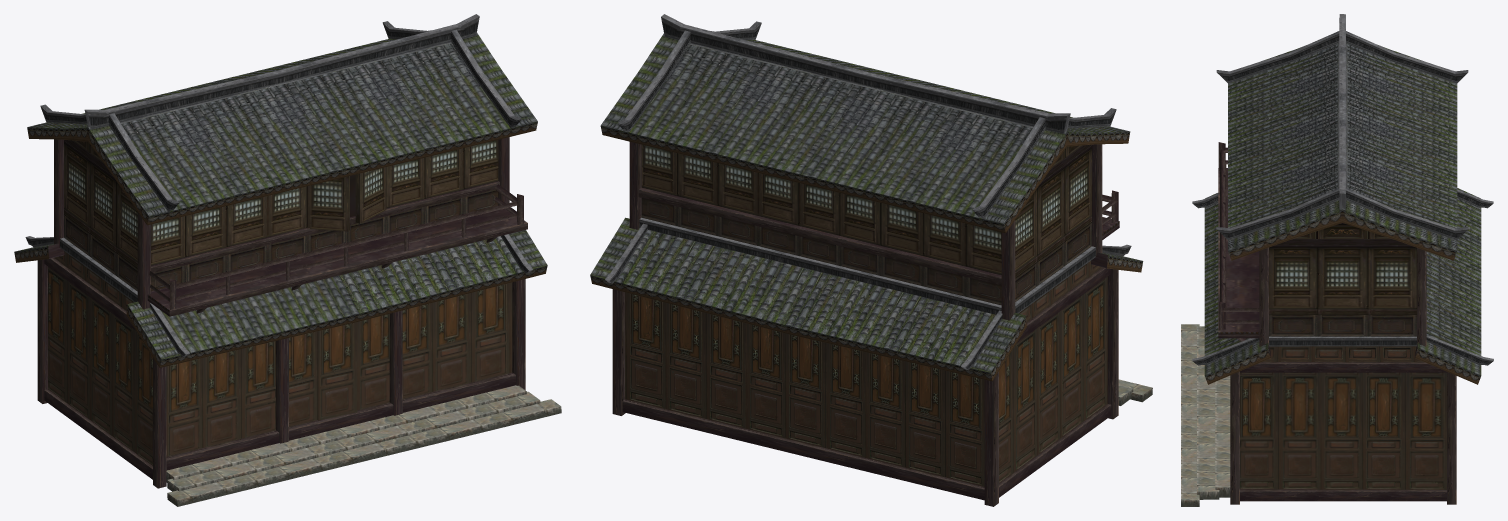
The model's file is minju_dw_24.fbx.
3 views of the same model, side by side, from view 1: azimuth 30°, elevation 25°; view 2: azimuth 150°, elevation 25°; view 3: azimuth 270°, elevation 25° (orthographic). The views are drawn at different scales.
Parts seen in each view (by area): view 1: minju_dw_24; view 2: minju_dw_24; view 3: minju_dw_24.
Boxes of the visible parts, x1,y1,x2,y2 form: minju_dw_24: (14,14,561,506); minju_dw_24: (590,14,1152,506); minju_dw_24: (1181,14,1493,506).
Size of what is drawn, in the model's own units: 1341 by 1102 by 986.
